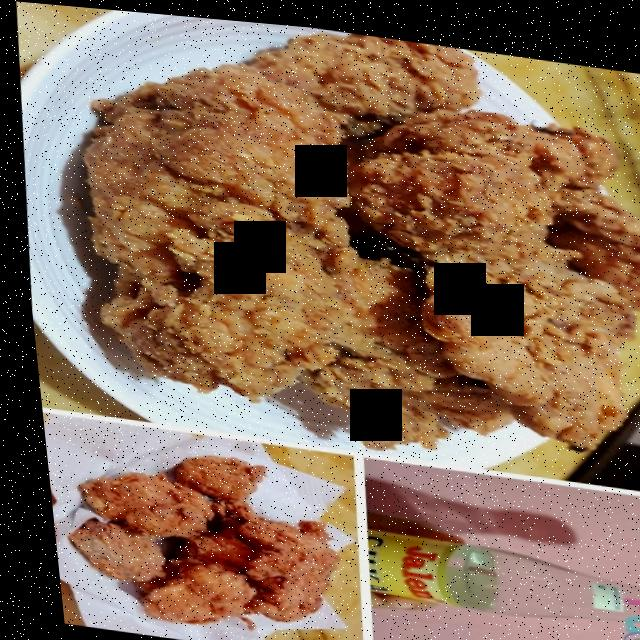Frango: (98, 86, 354, 393), (438, 237, 617, 411), (313, 259, 489, 432), (249, 21, 469, 129), (368, 122, 532, 261), (520, 185, 640, 291), (77, 470, 202, 534), (230, 525, 313, 609), (74, 524, 154, 578), (151, 561, 225, 618), (170, 453, 249, 503)
